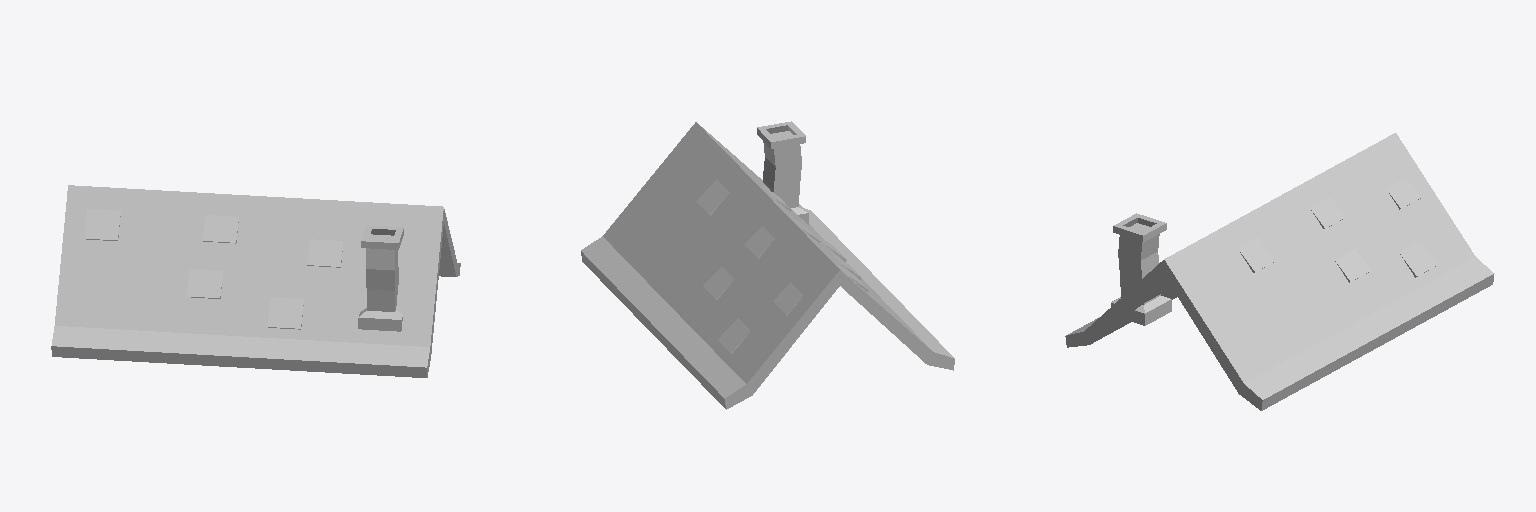
The model's file is Spawn Roof.obj.
3 views of the same model, side by side, from view 1: azimuth 30°, elevation 25°; view 2: azimuth 150°, elevation 25°; view 3: azimuth 270°, elevation 25° (orthographic).
Parts seen in each view (by area): view 1: Spawn_1; view 2: Spawn_1; view 3: Spawn_1.
Part boxes in pixels (x1,y1,x2,y2): Spawn_1: (51,185,460,377); Spawn_1: (581,121,954,409); Spawn_1: (1065,133,1494,410).
Bounding box in the file's own units: 0.1337 × 0.0392 × 0.1268.